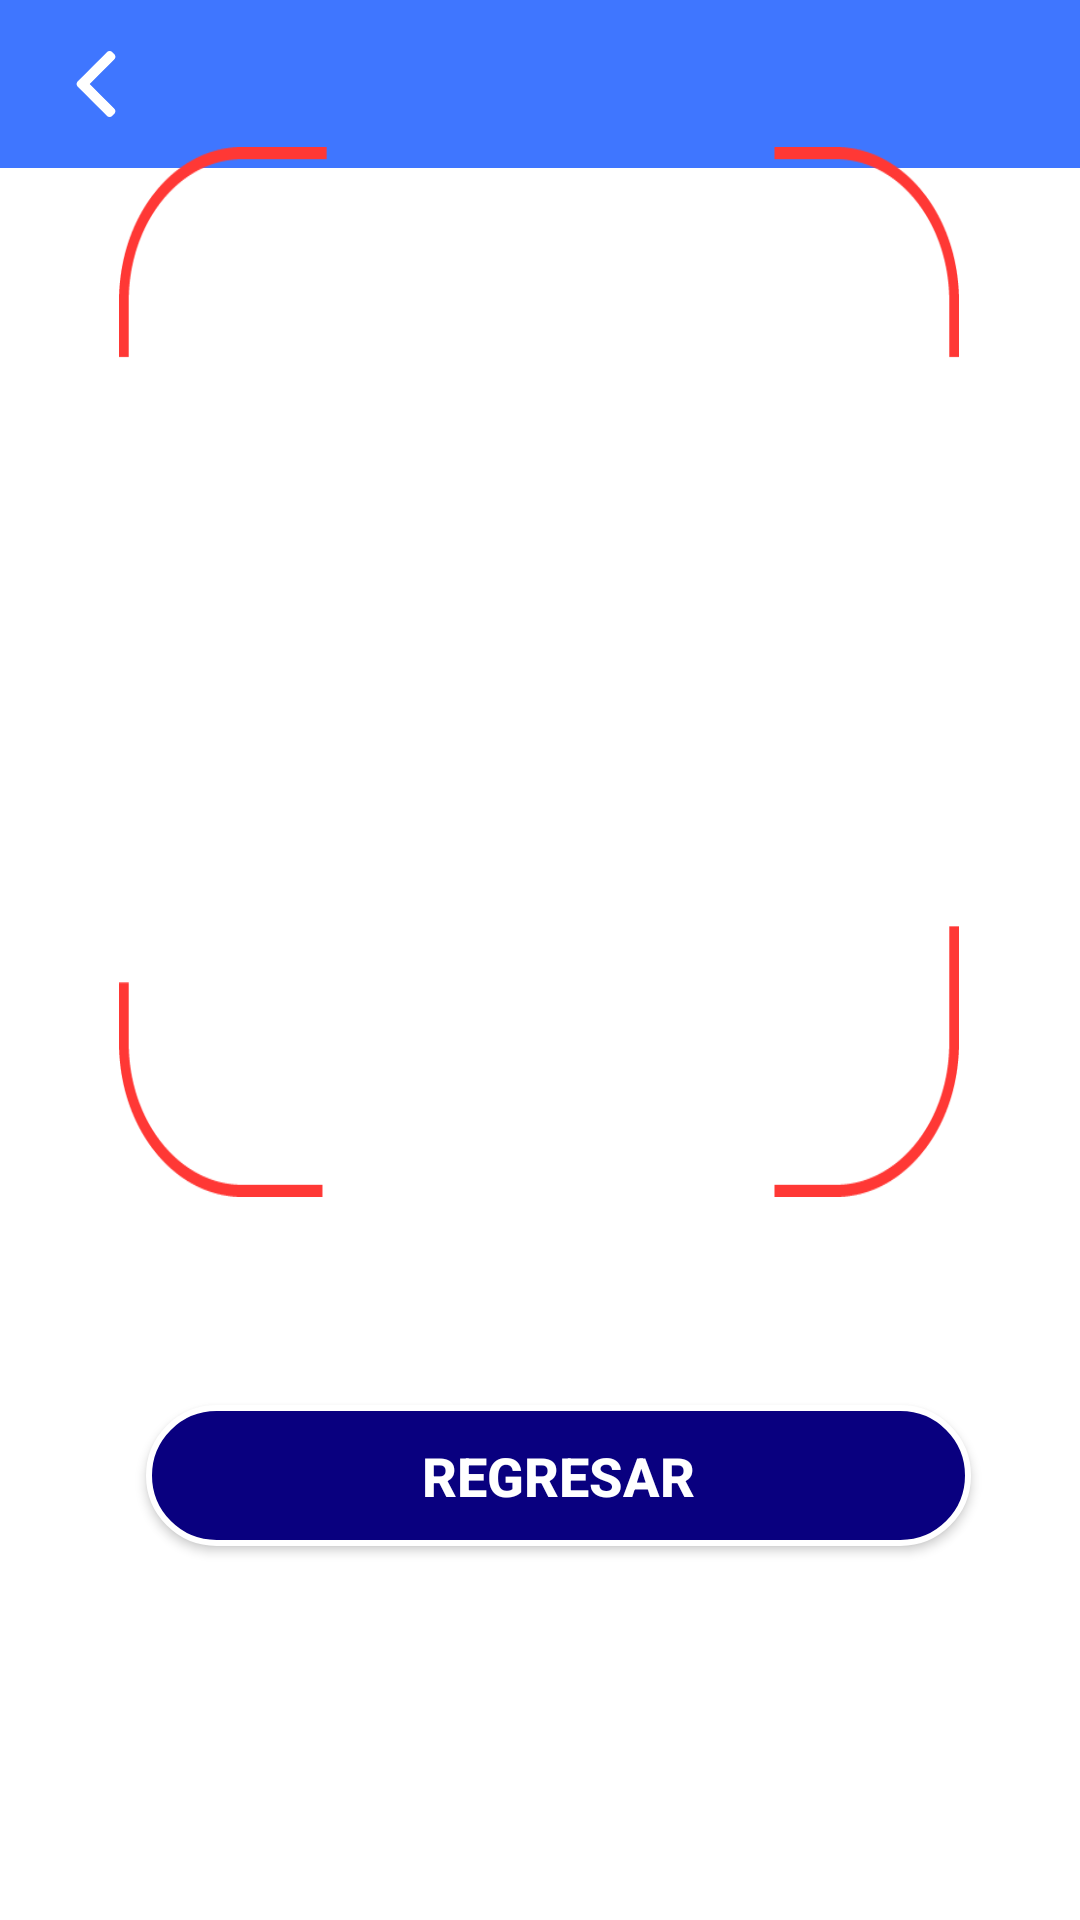

Where icons sit on this 1080 x 1920 app screen, as region(x1, y1, x2, y2):
atras blanca: region(76, 51, 116, 117)
